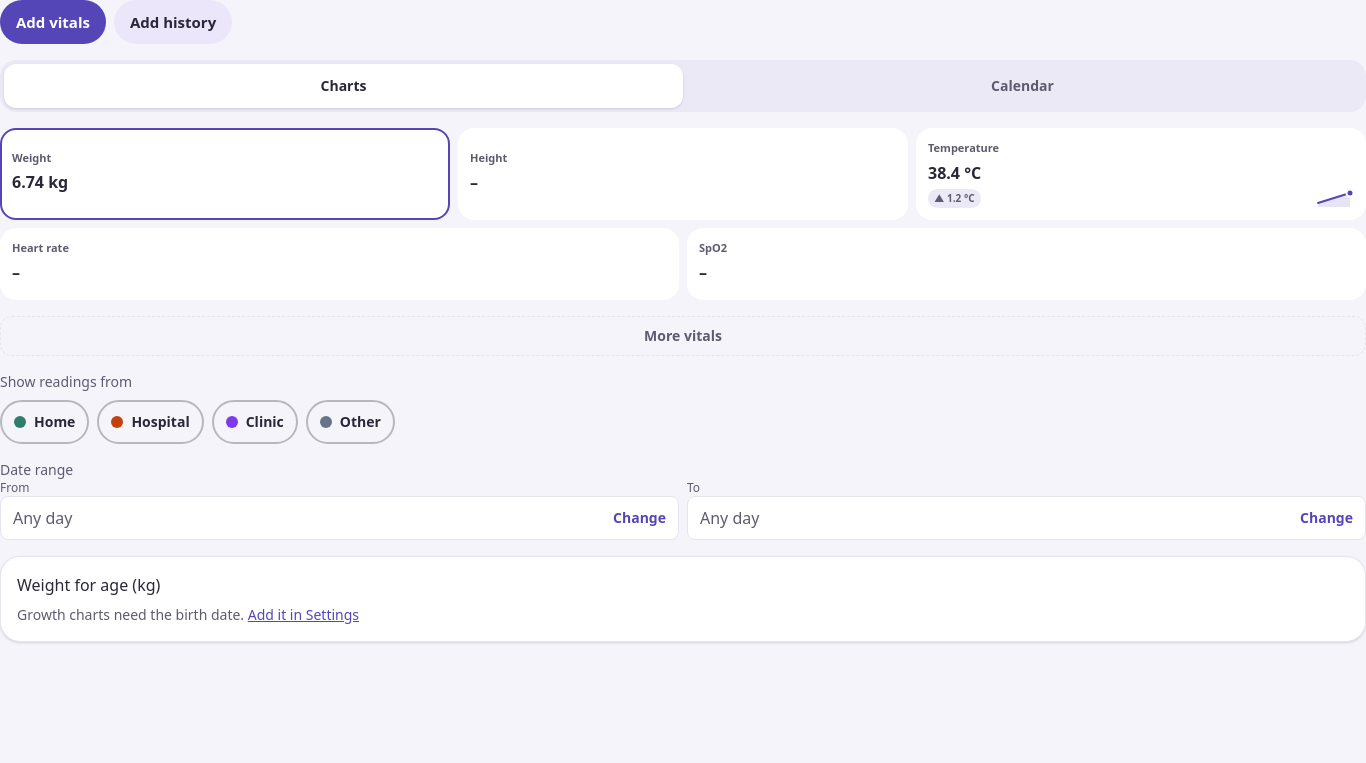
Test: tapping a day lists only its readings; tapping it again or Show all goes back to the month
The image size is (1366, 763).
Click the radio button labelled "Calendar" at (1022, 86), box [683, 64, 1362, 108]
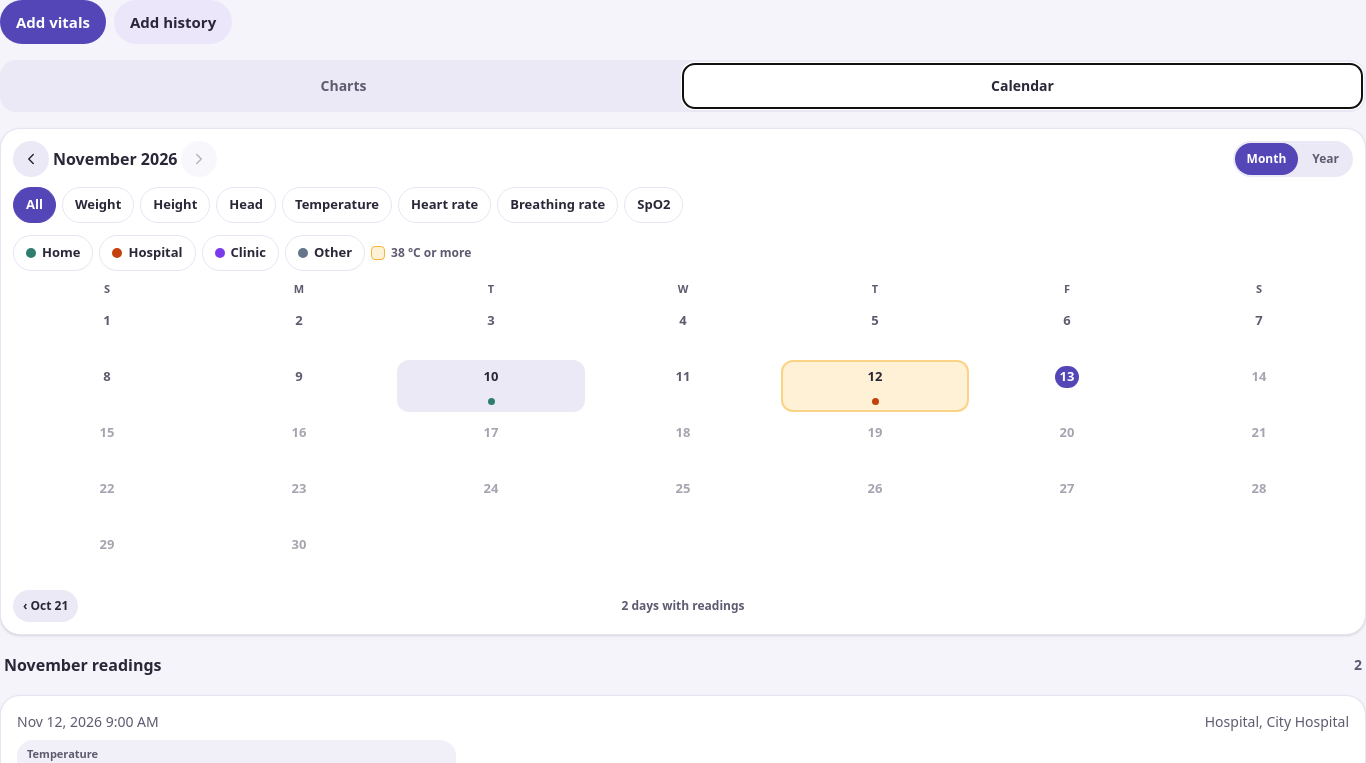
Click the button "12" at (875, 386), box [781, 360, 969, 412]
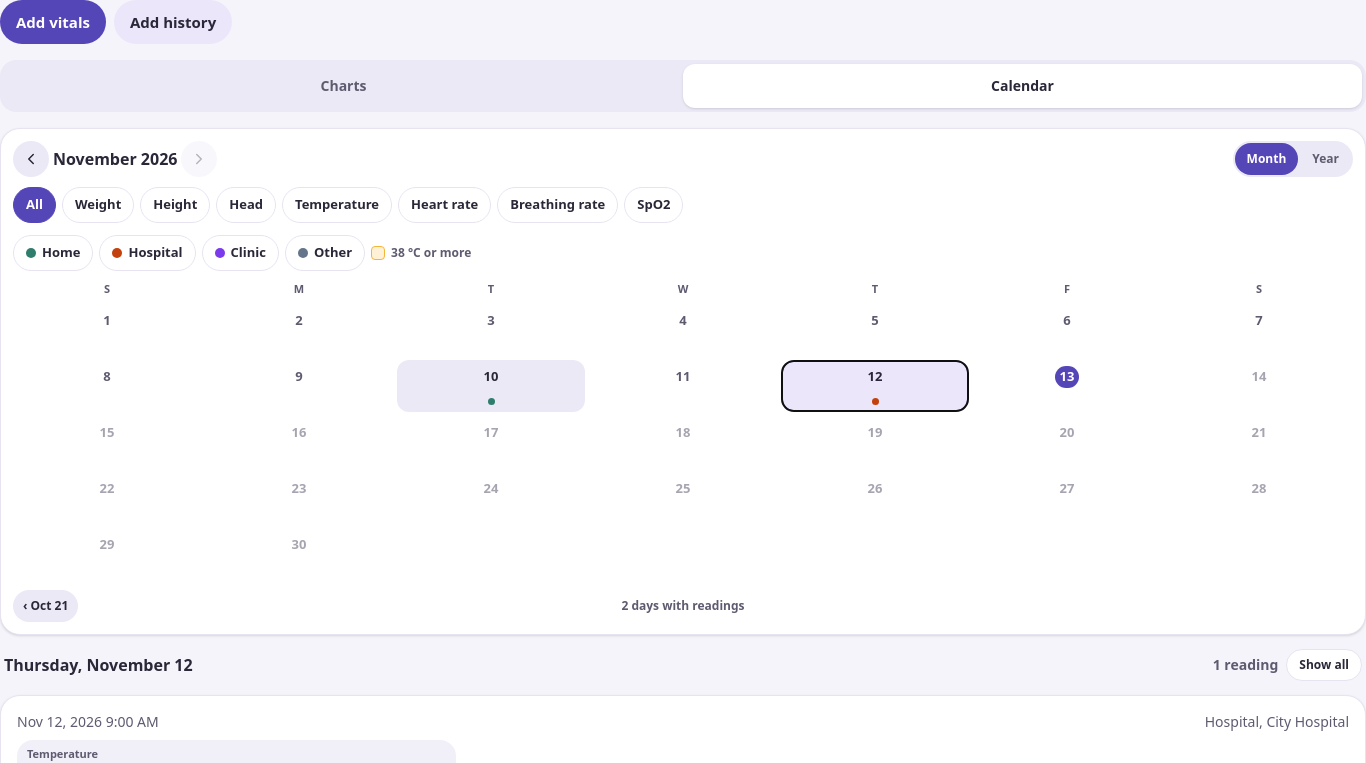
Expected: the text "6.74 kg" is not shown
Result: the text "Hospital, City Hospital" is shown at [1205, 712, 1349, 732]
Result: the heading "Thursday, November 12" is shown at [4, 652, 193, 676]
Click the button "Show all" at (1324, 664), box [1286, 648, 1362, 680]
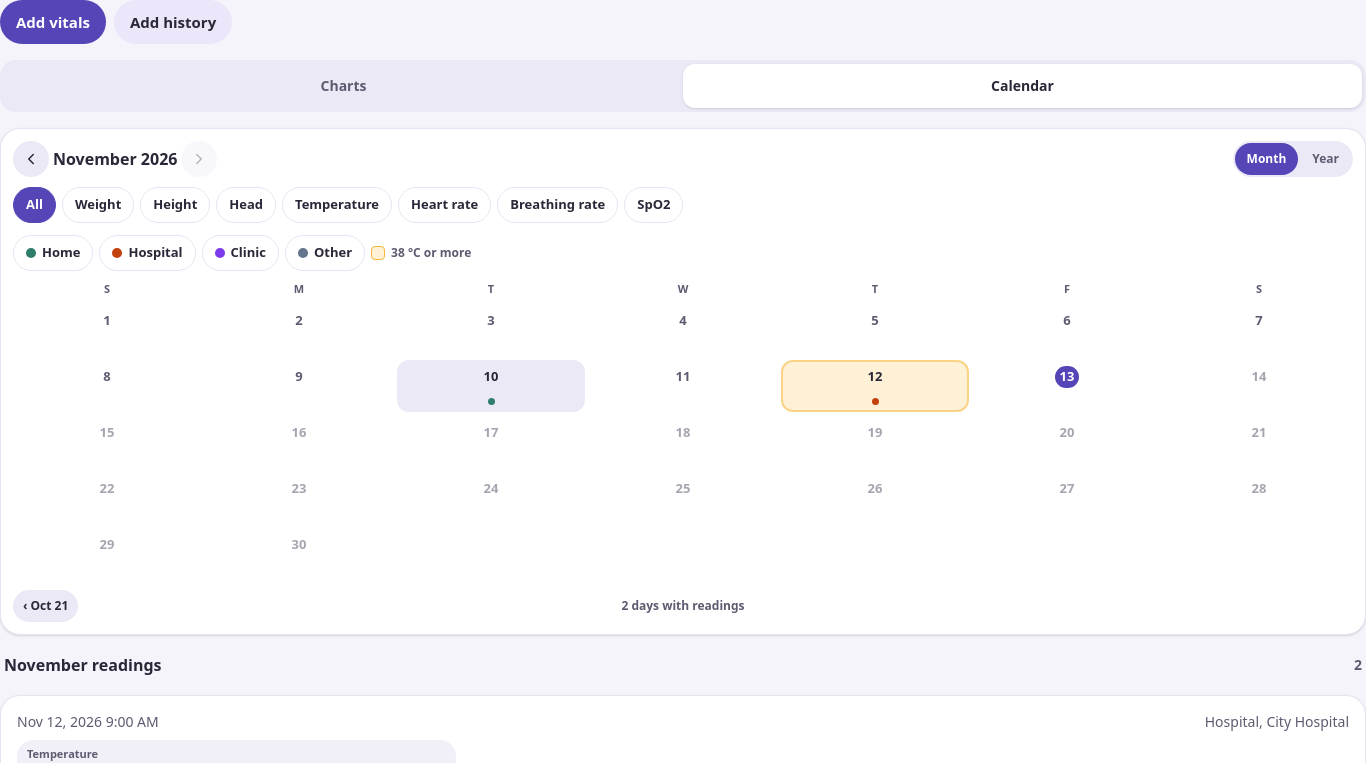
Click the button "10" at (491, 386), box [397, 360, 585, 412]
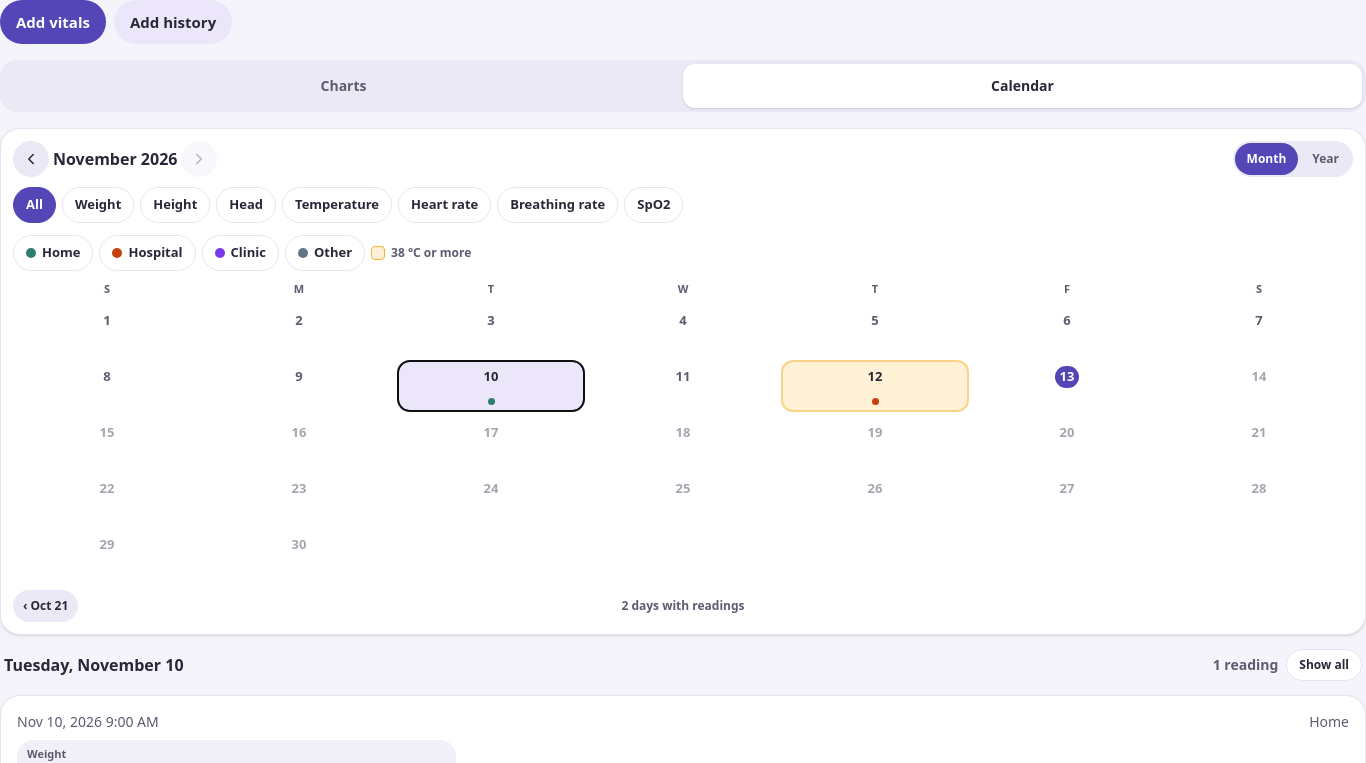
Result: the text "City Hospital" is gone
Click the button "10" at (491, 386), box [397, 360, 585, 412]
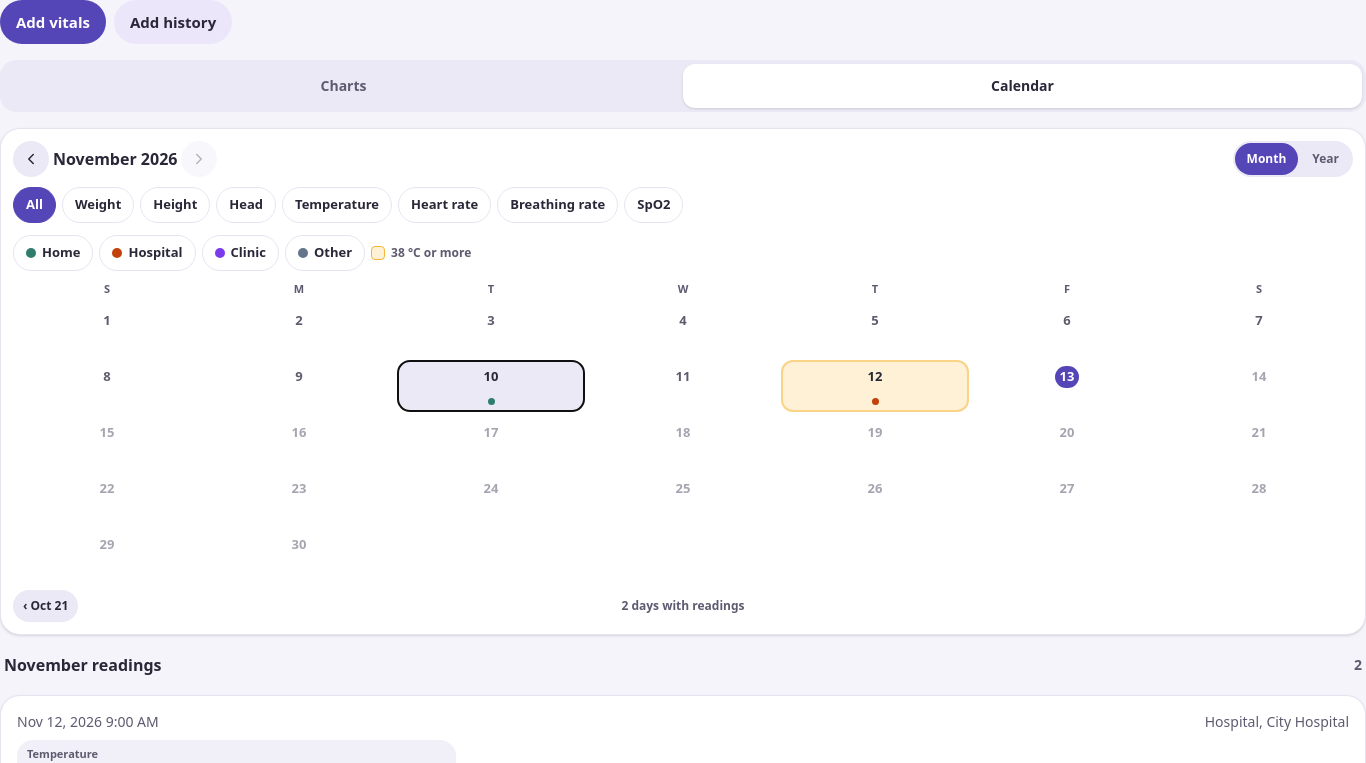
Result: the text "Hospital, City Hospital" is shown at [1205, 712, 1349, 732]
